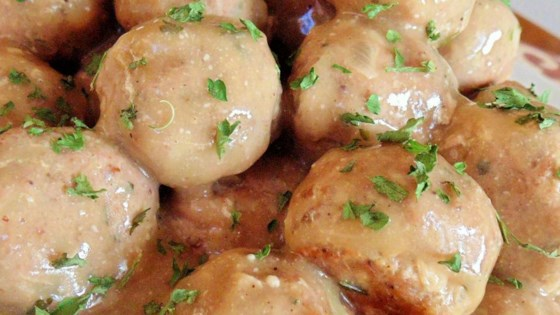meatballs: (71, 20, 523, 306)
